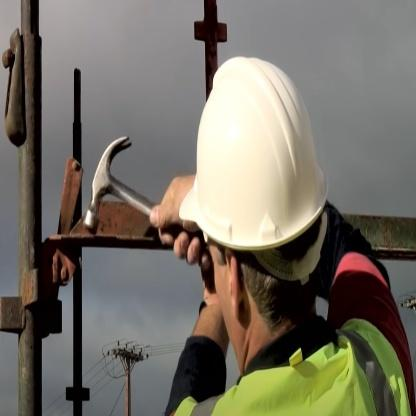helmet: (150, 45, 337, 369)
